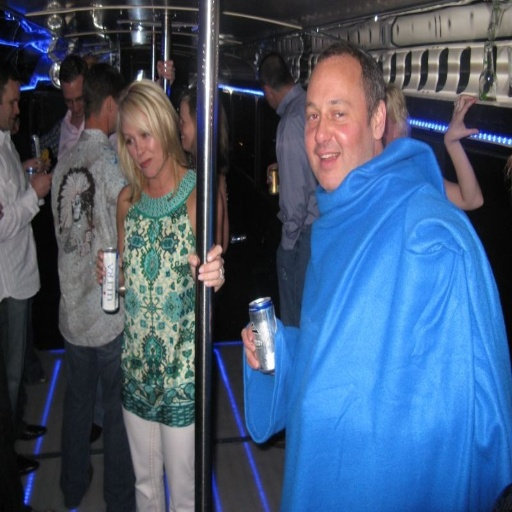hand: (442, 92, 480, 144), (188, 244, 226, 294), (241, 323, 275, 377), (95, 248, 125, 290), (30, 169, 54, 197), (155, 57, 176, 87), (23, 157, 44, 174), (266, 162, 279, 185)
